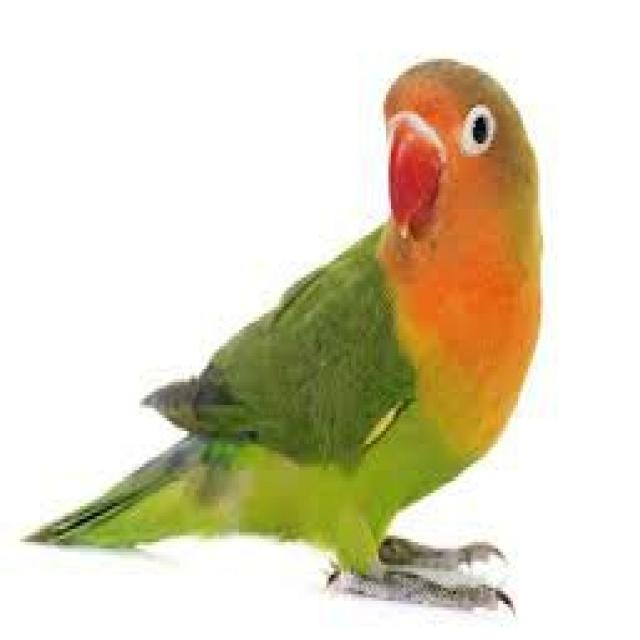parrot: (27, 59, 540, 607)
